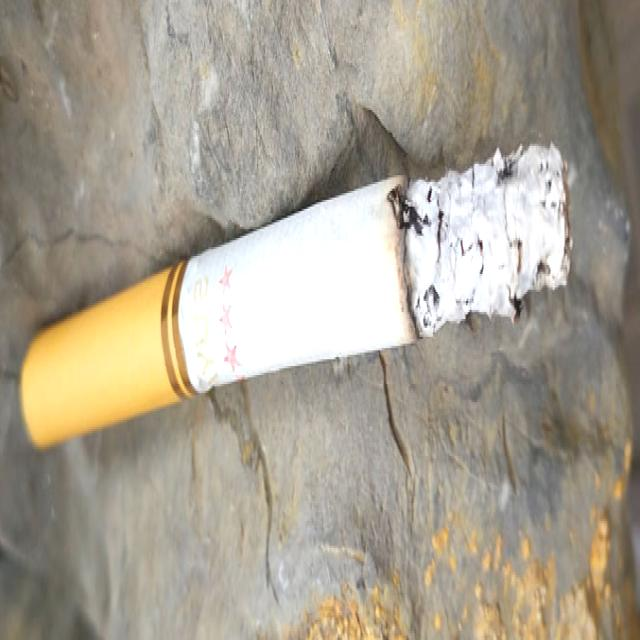smoke: (28, 132, 568, 454)
